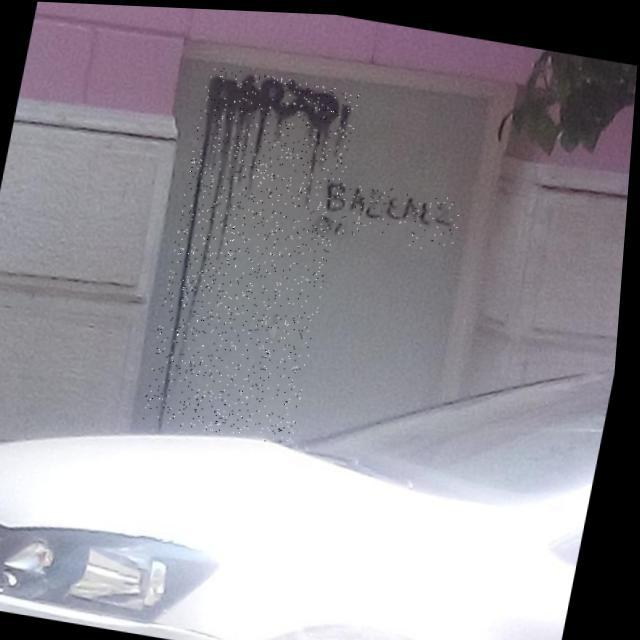-: (144, 62, 363, 444), (317, 173, 466, 250)
